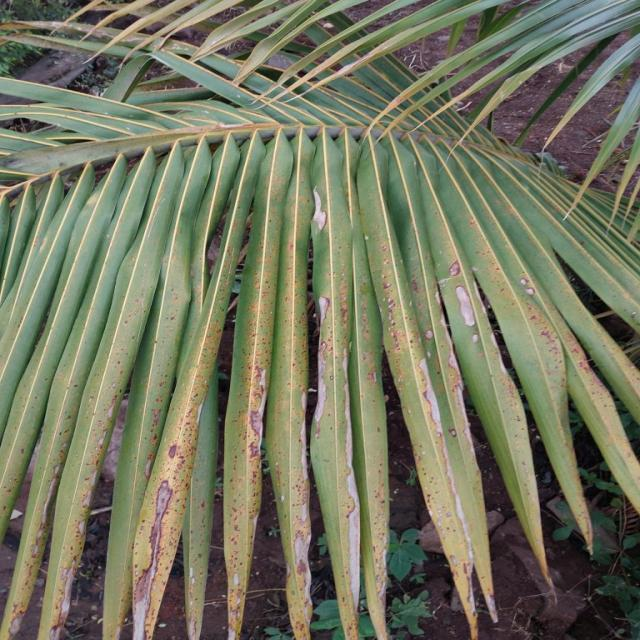gray leaf spot: (111, 248, 520, 635)
